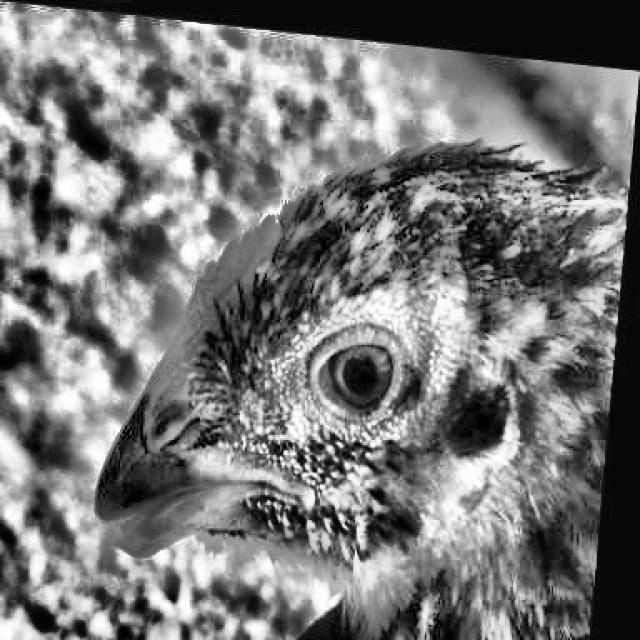Healthy: (286, 310, 432, 428)
